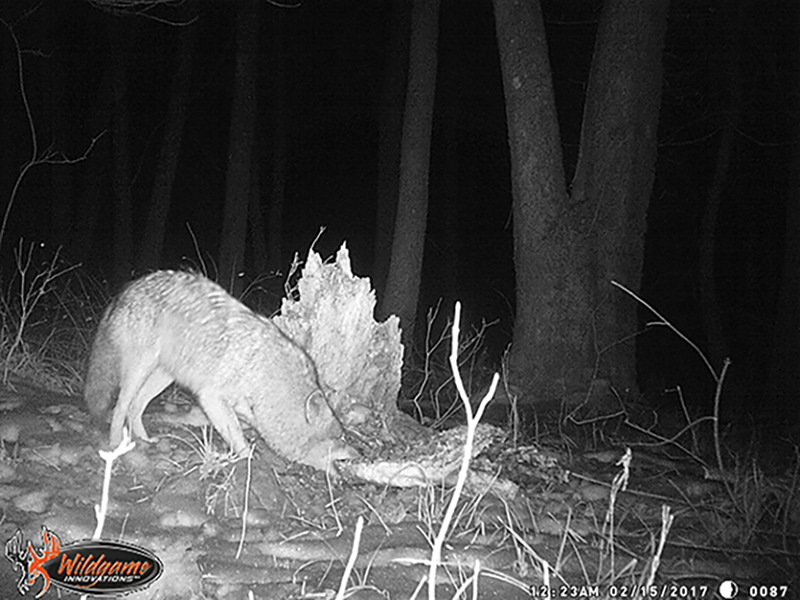cane da caccia: (86, 243, 372, 490)
